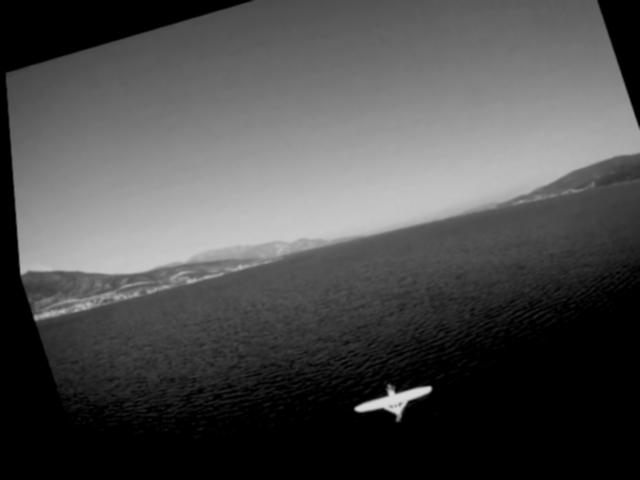hedef: (333, 363, 437, 443)
